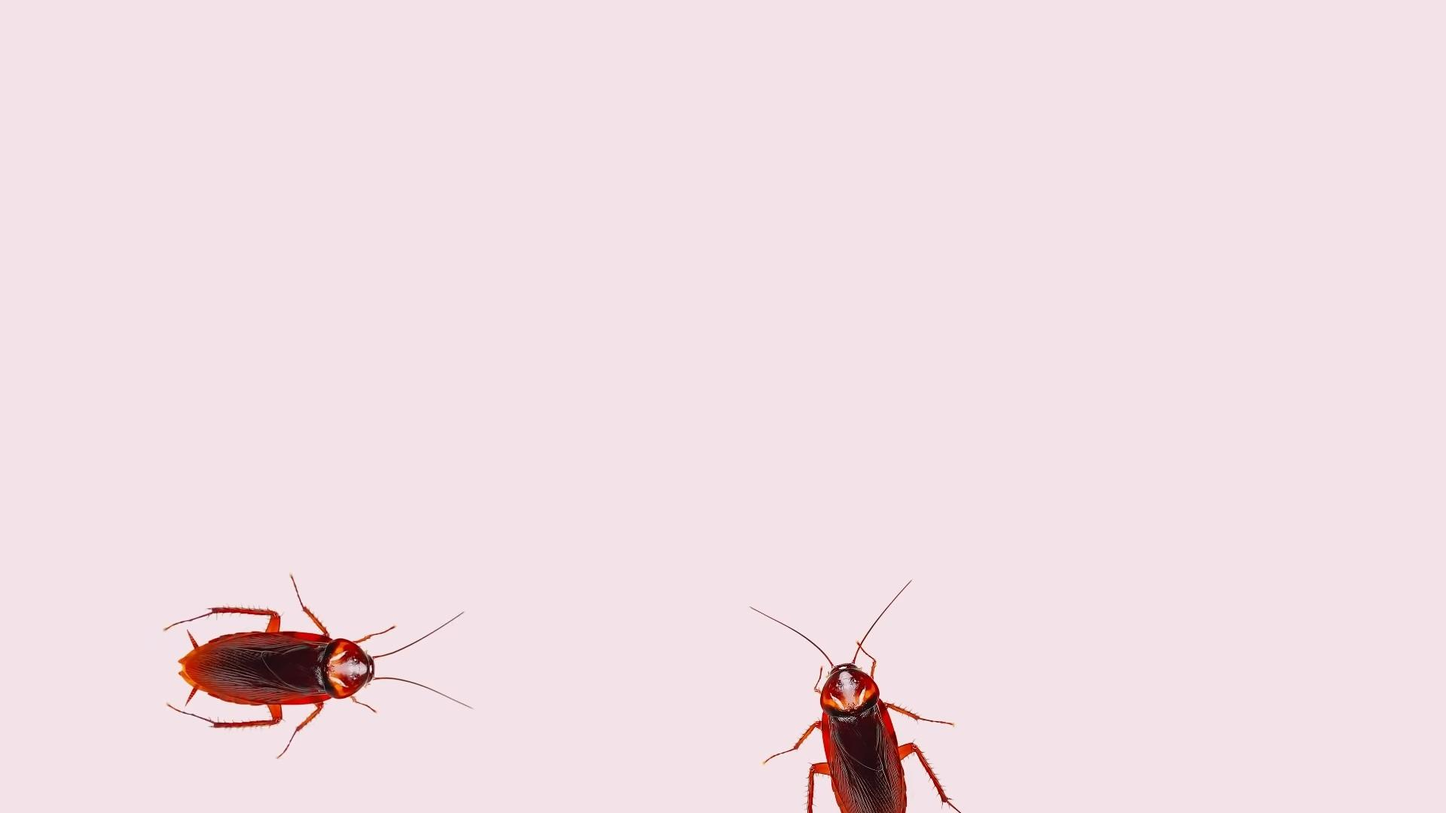cockroach: (759, 584, 968, 813), (170, 595, 472, 746)
